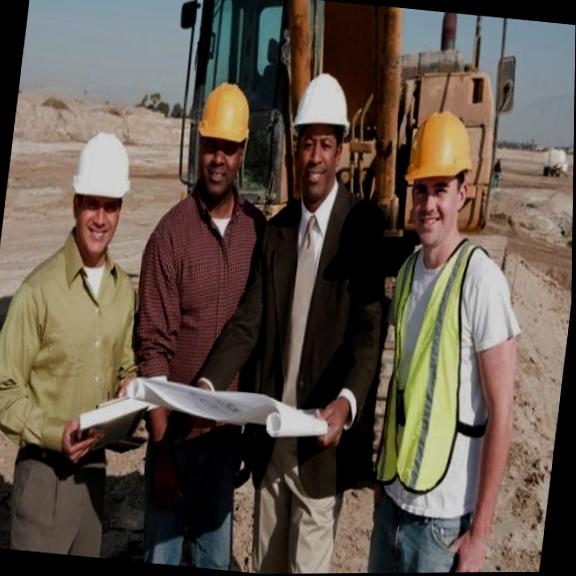no_safety_vest: (223, 179, 402, 501), (117, 184, 280, 459), (0, 231, 153, 468)
safety_vest: (369, 232, 534, 504)
